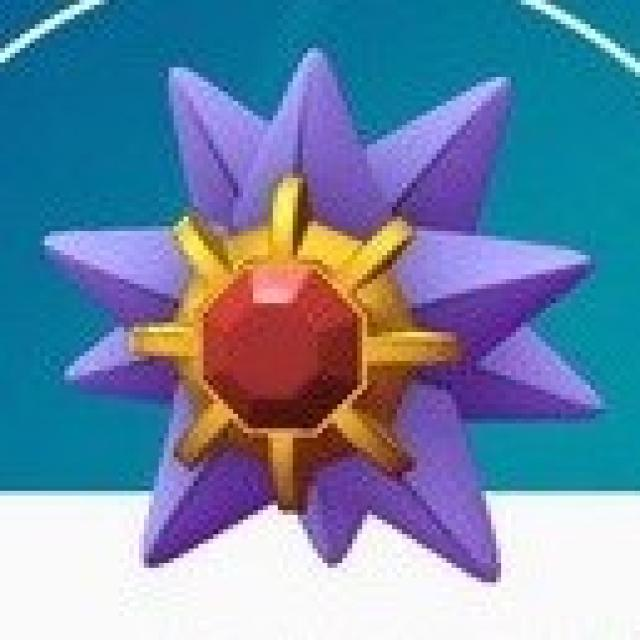Starmie: (120, 65, 530, 580)
